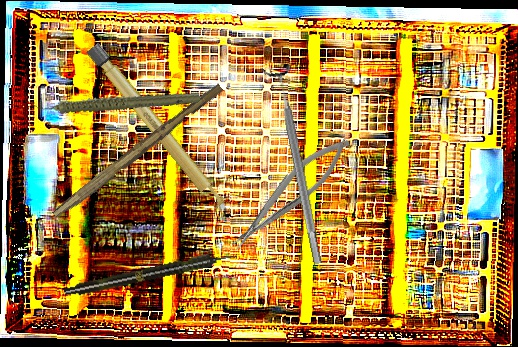Fixation Ring: (260, 62, 334, 268)
Handpiece: (30, 64, 201, 138), (62, 248, 239, 300)
Needle Holder: (221, 129, 359, 256)
Scalpel Handle: (85, 42, 231, 217), (51, 79, 225, 224)
